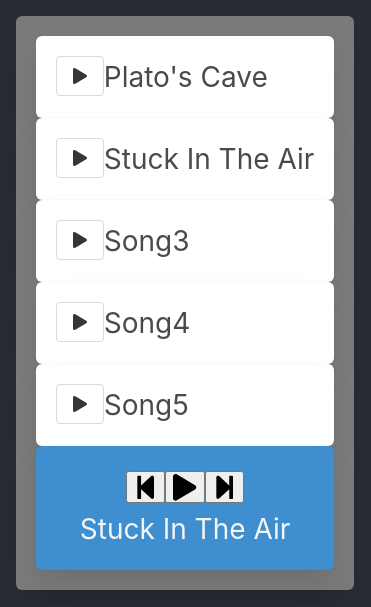
Test: The musicPlayer app › plays the previous song when Previous clicked
Click the 6th button: (146, 487) [126,471,165,503]
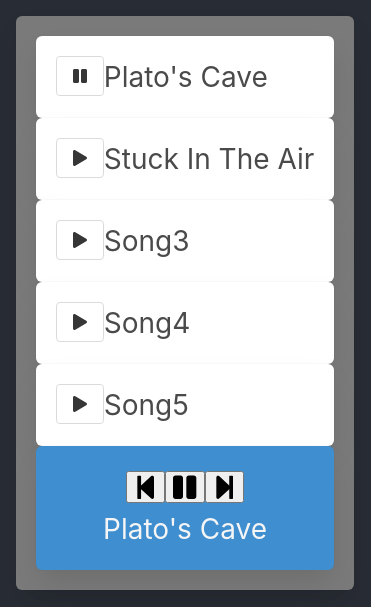
Result: the heading with id "MusicLabel" reads "Plato's Cave" at [103,512,267,546]
